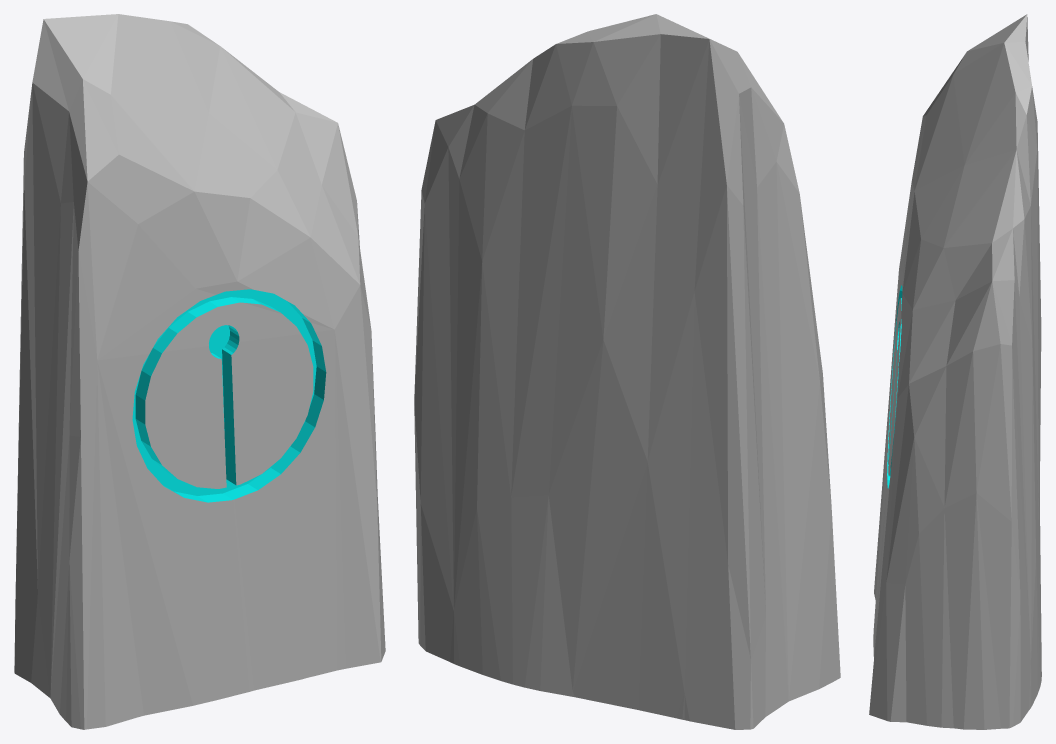
The model's file is Rock_Prop_Tribal_Stone_Altar_Rune_05.FBX.
3 views of the same model, side by side, from view 1: azimuth 30°, elevation 25°; view 2: azimuth 150°, elevation 25°; view 3: azimuth 270°, elevation 25° (orthographic). The views are drawn at different scales.
Visible parts, largest first — view 1: Rock_Prop_Tribal_Stone_Altar_Rune_05; view 2: Rock_Prop_Tribal_Stone_Altar_Rune_05; view 3: Rock_Prop_Tribal_Stone_Altar_Rune_05.
Part boxes in pixels (x1,y1,x2,y2): Rock_Prop_Tribal_Stone_Altar_Rune_05: (14, 14, 385, 729); Rock_Prop_Tribal_Stone_Altar_Rune_05: (414, 14, 840, 729); Rock_Prop_Tribal_Stone_Altar_Rune_05: (869, 14, 1041, 729).
Bounding box in the file's own units: 1397 × 2548 × 678.
